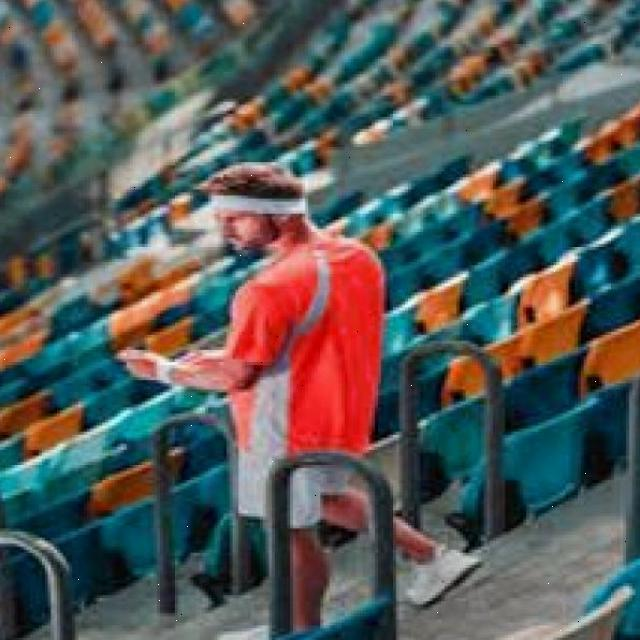stair: (403, 475, 617, 640)
